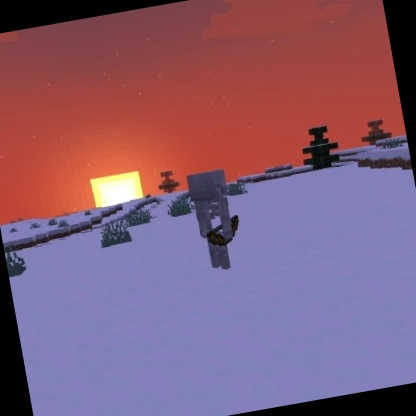skeleton: (183, 164, 251, 278)
